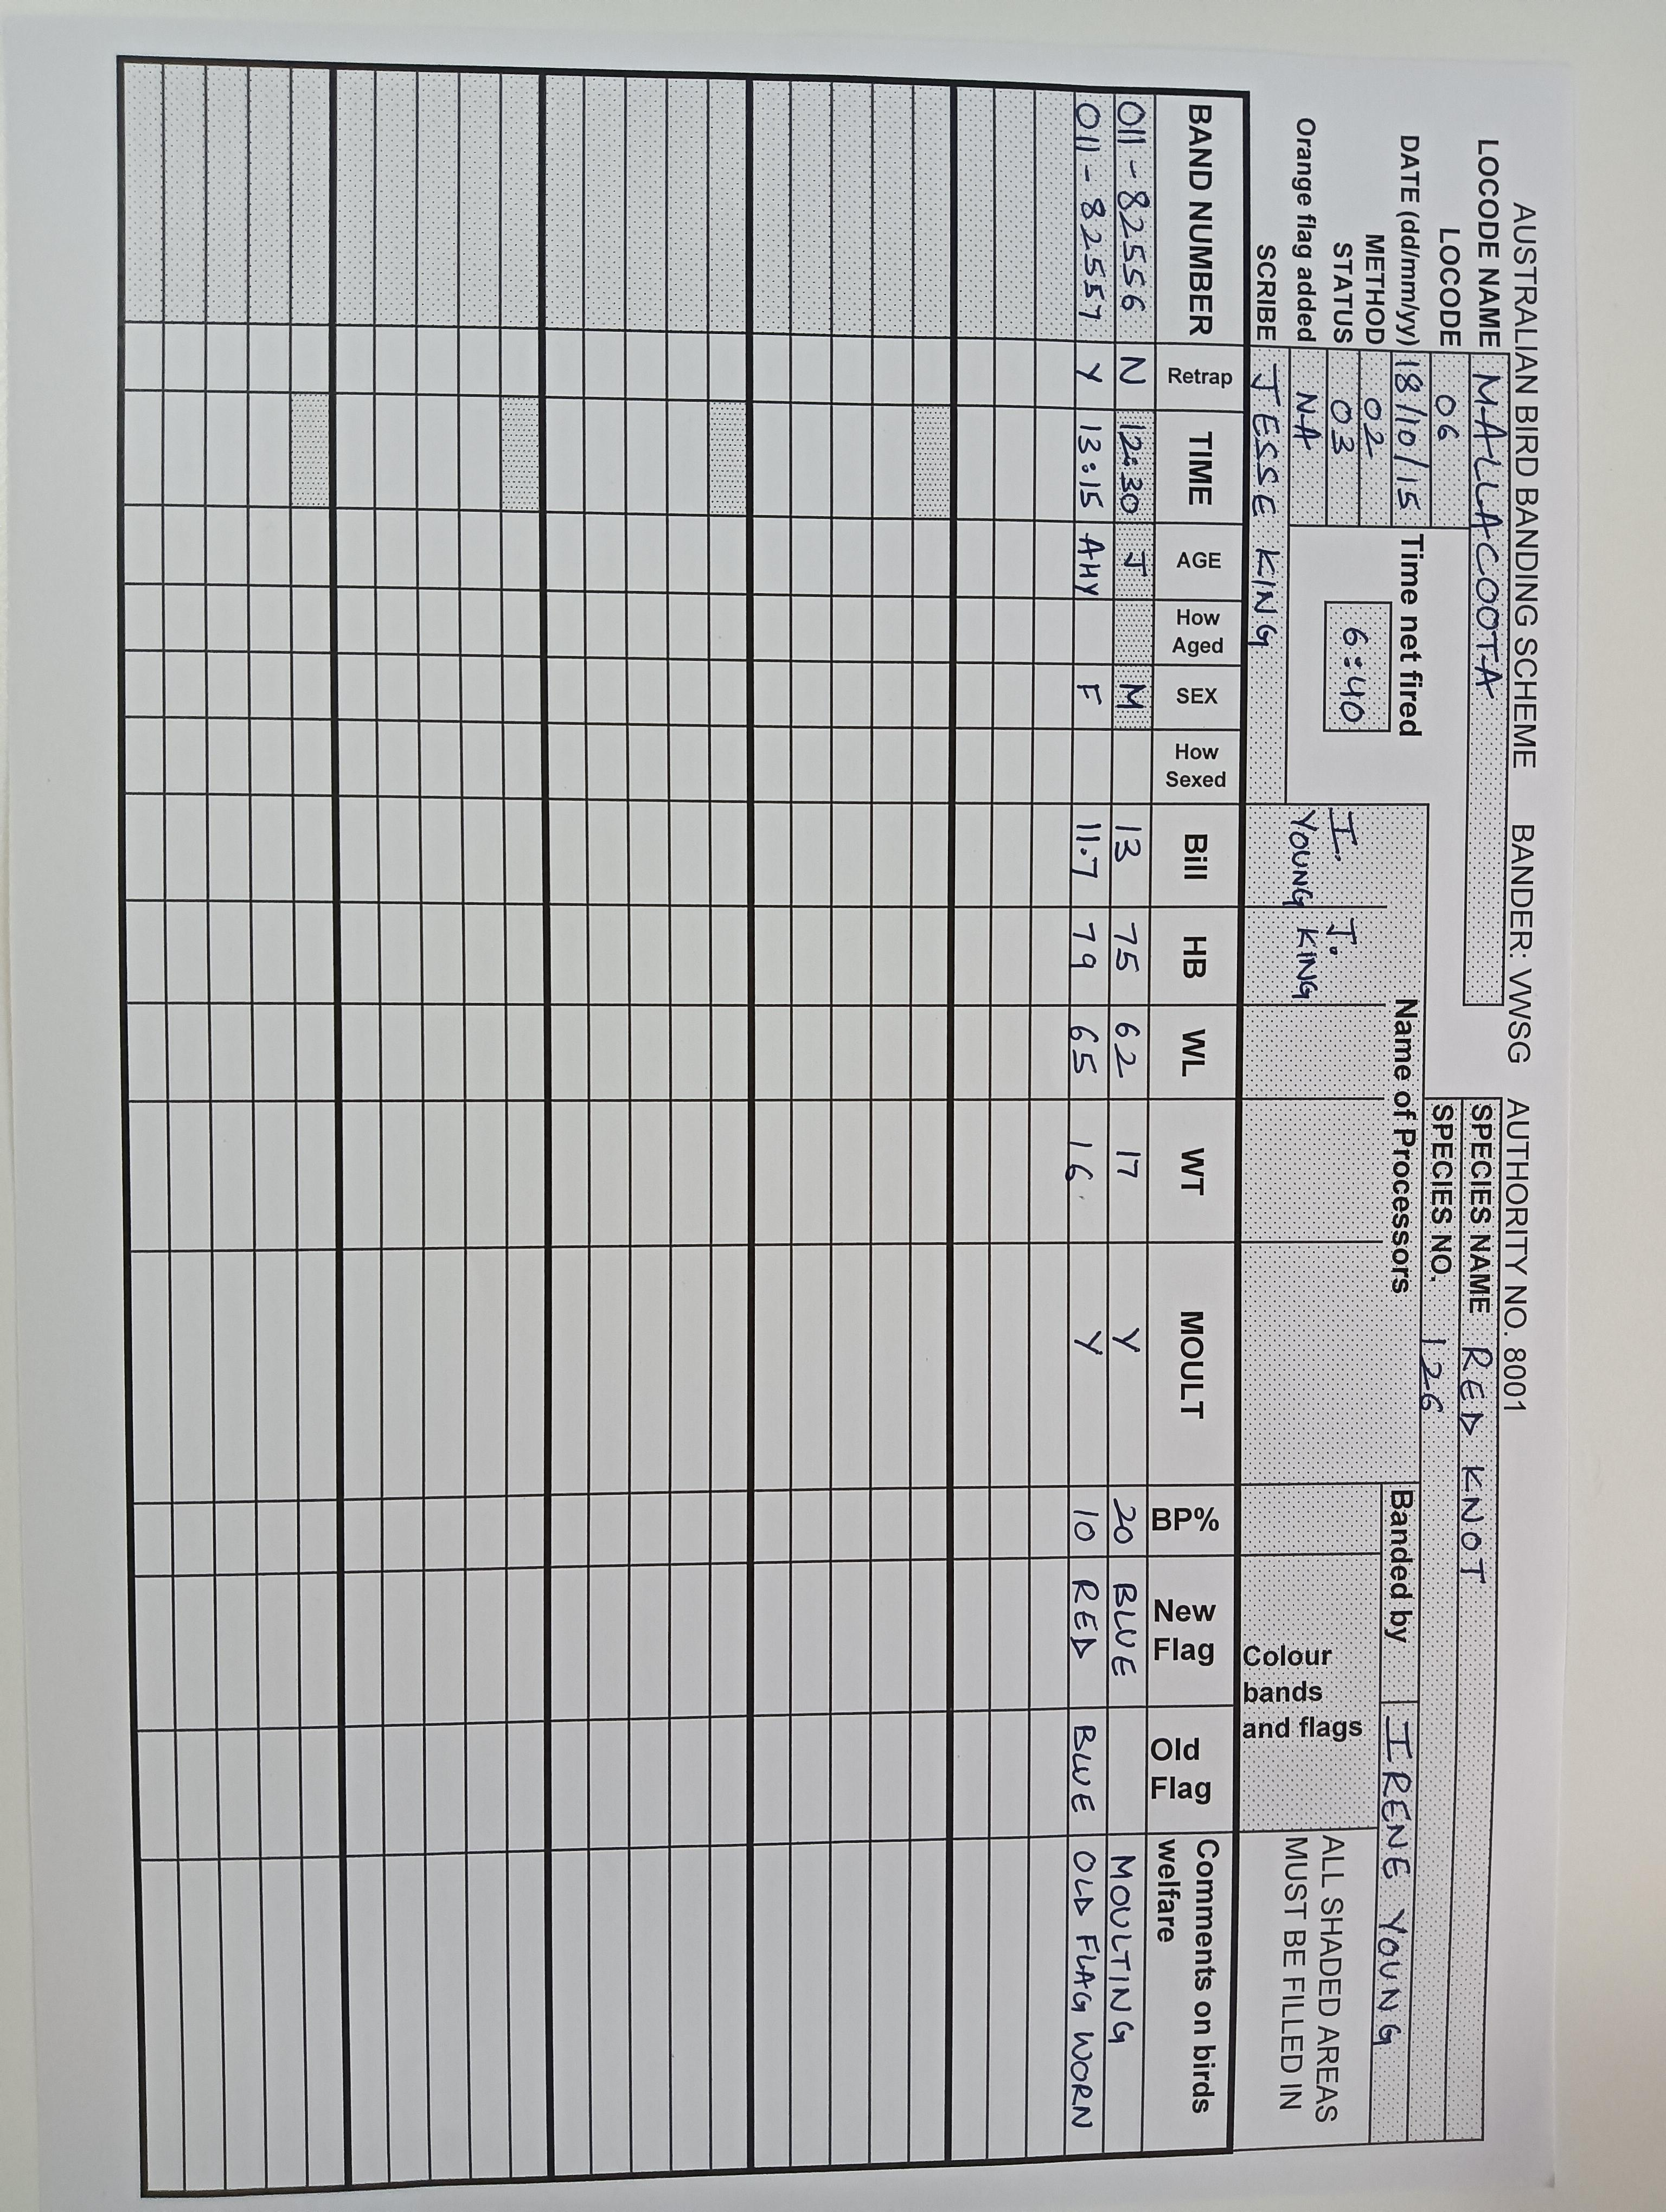BANDED_BY: (1369, 1481, 1423, 2147)
DATA: (1101, 84, 1152, 2161), (1066, 84, 1115, 2161)
DATE: (1391, 117, 1435, 525)
LOCOCODE: (1433, 206, 1472, 532)
LOCOCODE_NAME: (1468, 122, 1510, 1009)
METHOD: (1362, 220, 1396, 525)
NAME_OF_PROCESSORS: (1241, 803, 1407, 918), (1242, 913, 1403, 1012)
ORANGE_FLAG_ADDED: (1288, 108, 1335, 532)
SCRIBE: (1246, 233, 1295, 808)
SPECIES_NAME: (1444, 1098, 1502, 2146)
SPECIES_NO: (1405, 1098, 1465, 2153)
STATUS: (1326, 224, 1362, 530)
TIME_NET_FIRED: (1307, 532, 1453, 782)
